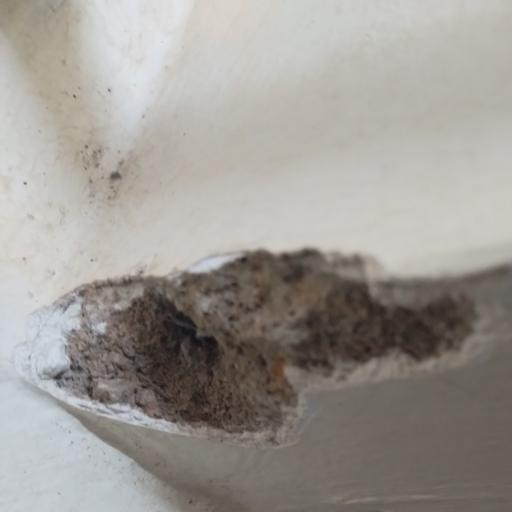spalling: (11, 237, 493, 459)
